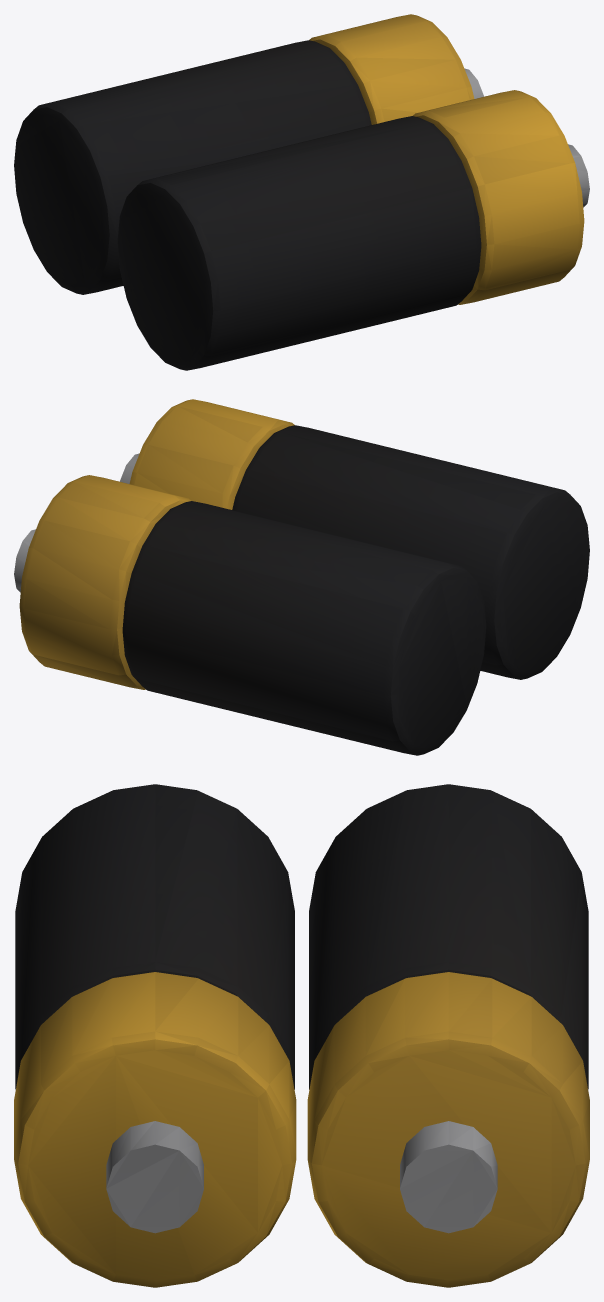
File: Battery.glb
3 views of the same model, one above another, from view 1: azimuth 30°, elevation 25°; view 2: azimuth 150°, elevation 25°; view 3: azimuth 270°, elevation 25° (orthographic). The views are drawn at different scales.
Parts seen in each view (by area): view 1: Battery_battery_black, Battery_label_gold, Battery_steel; view 2: Battery_battery_black, Battery_label_gold, Battery_steel; view 3: Battery_label_gold, Battery_battery_black, Battery_steel.
Boxes of the visible parts, left/top/right/bottom form: Battery_battery_black: left=14, top=40, right=481, bottom=370; Battery_label_gold: left=309, top=14, right=584, bottom=304; Battery_steel: left=464, top=68, right=589, bottom=207; Battery_battery_black: left=122, top=425, right=589, bottom=755; Battery_label_gold: left=19, top=399, right=294, bottom=689; Battery_steel: left=14, top=453, right=139, bottom=592; Battery_label_gold: left=14, top=972, right=589, bottom=1287; Battery_battery_black: left=15, top=784, right=588, bottom=1089; Battery_steel: left=106, top=1121, right=497, bottom=1233.
Bounding box in the file's own units: 0.48 × 0.202 × 0.412.
